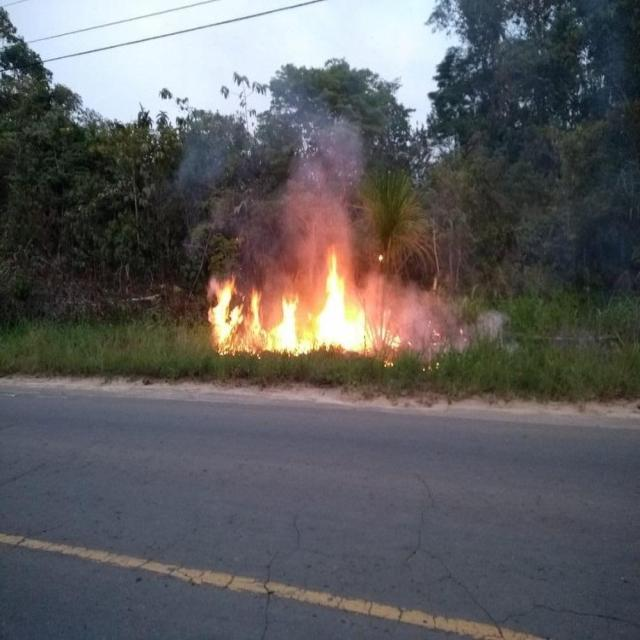fire: (201, 241, 388, 354)
